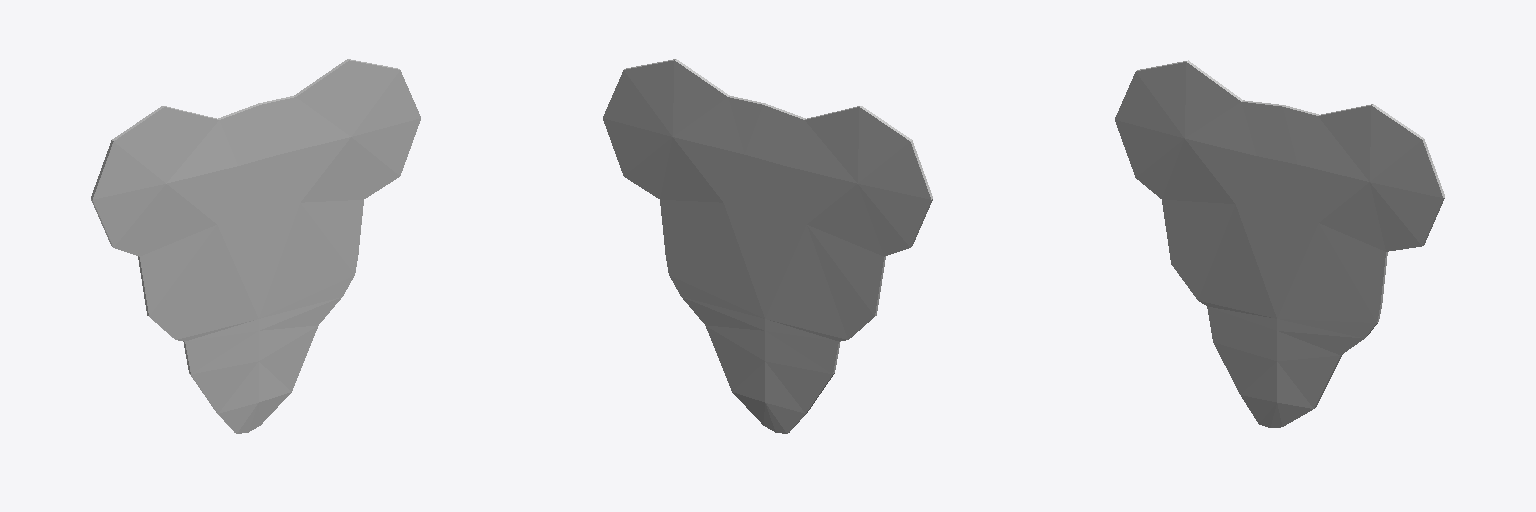
File: KRISTIAN POD.obj
The picture shows the model from 3 angles: view 1: azimuth 30°, elevation 25°; view 2: azimuth 150°, elevation 25°; view 3: azimuth 330°, elevation 25°; orthographic projection.
Size of the model in its own units: 13.94 by 14.07 by 0.4142.